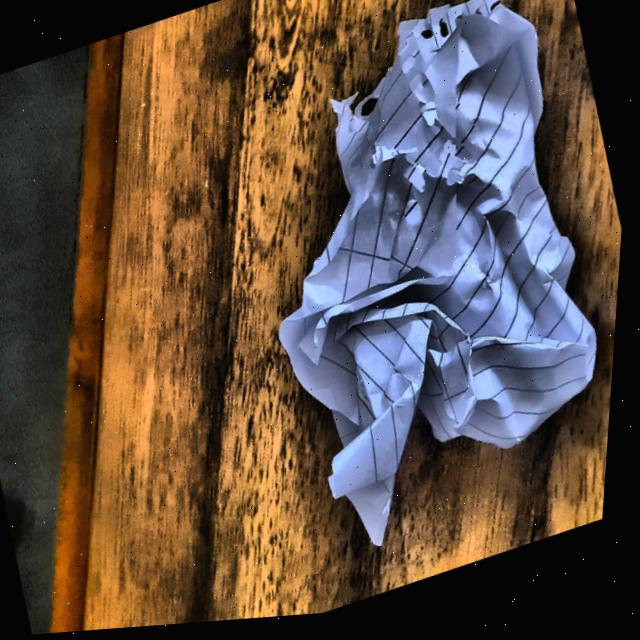paper: (198, 0, 640, 559)
